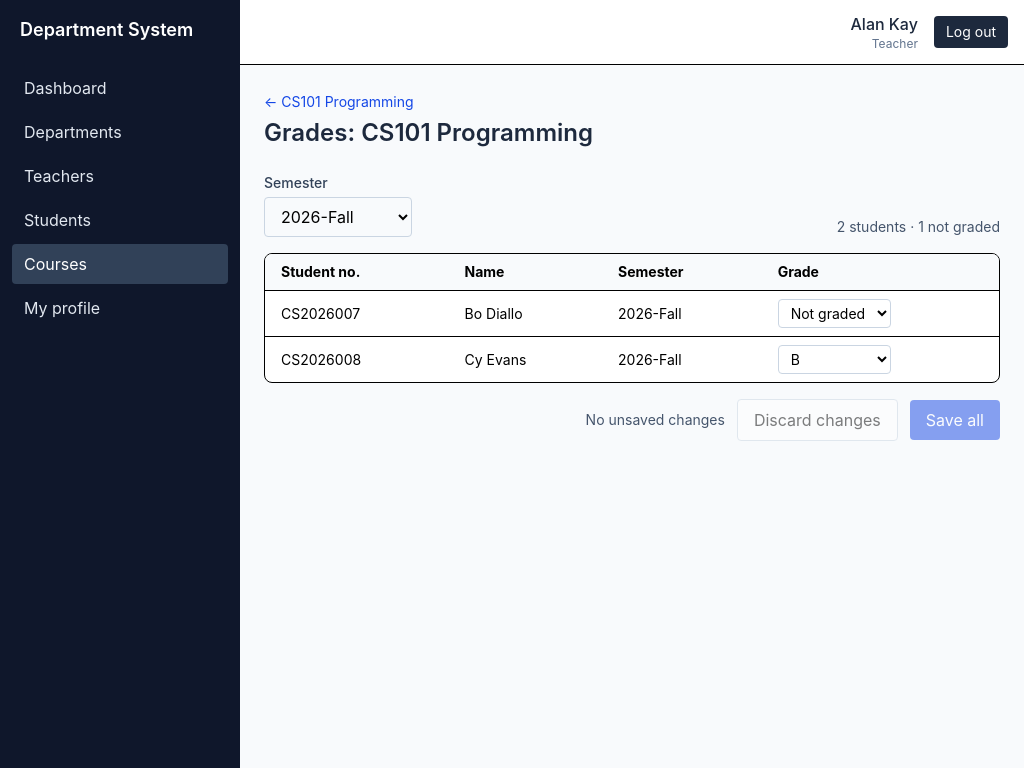
Scenario: Save all (FR-6.7) › a failed save shows the server's message and keeps the user's edits
Expected: the heading "Grades: CS101 Programming" is shown, [264, 118, 593, 147]
Select "A" in the dropdown named "Grade for Bo Diallo (2026-Fall)" at (834, 314), box [778, 299, 891, 328]
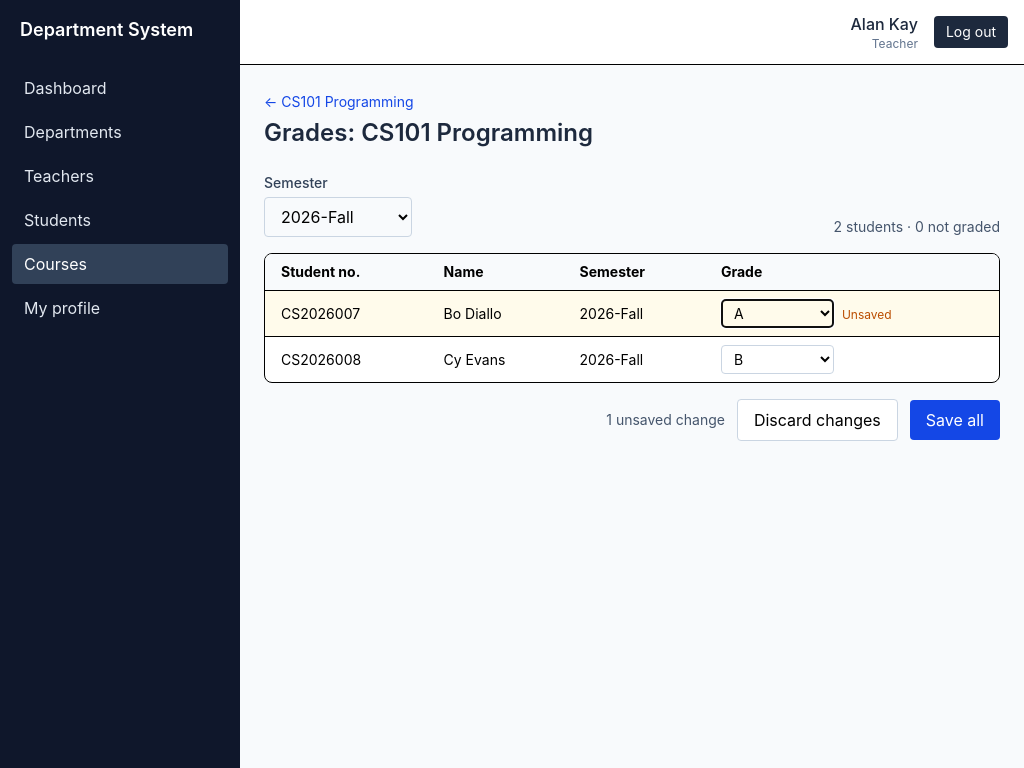
Select "B+" in the dropdown named "Grade for Cy Evans (2026-Fall)" at (777, 360), box [721, 345, 834, 374]
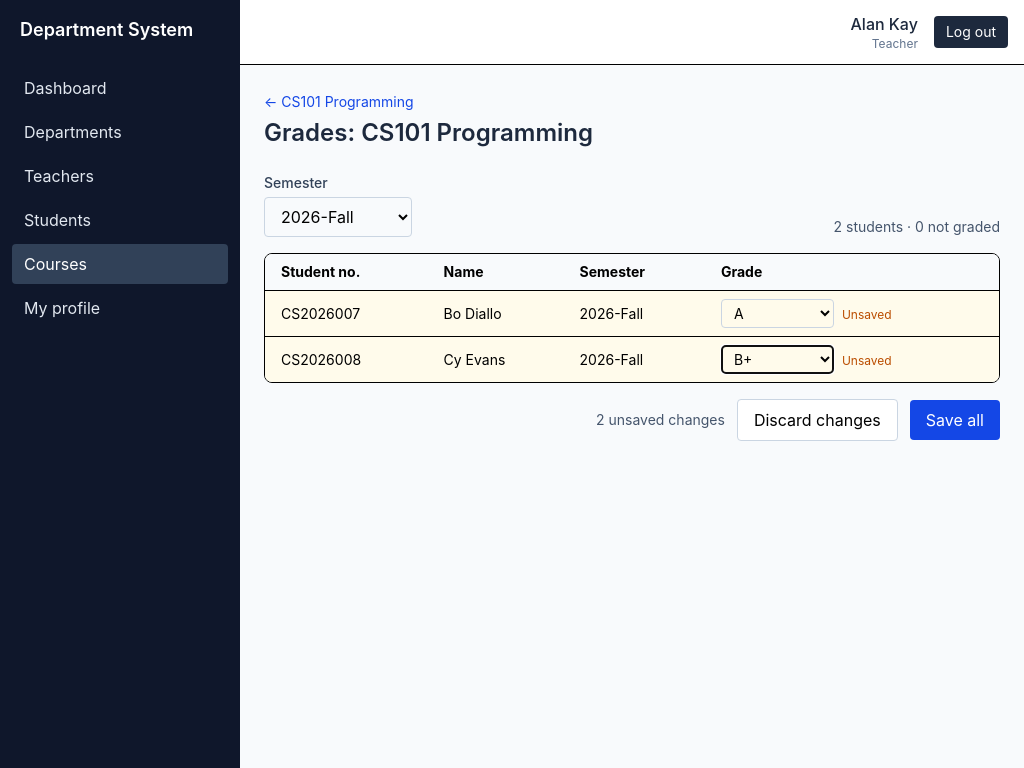
Click the button "Save all" at (955, 420), box [910, 400, 1000, 440]
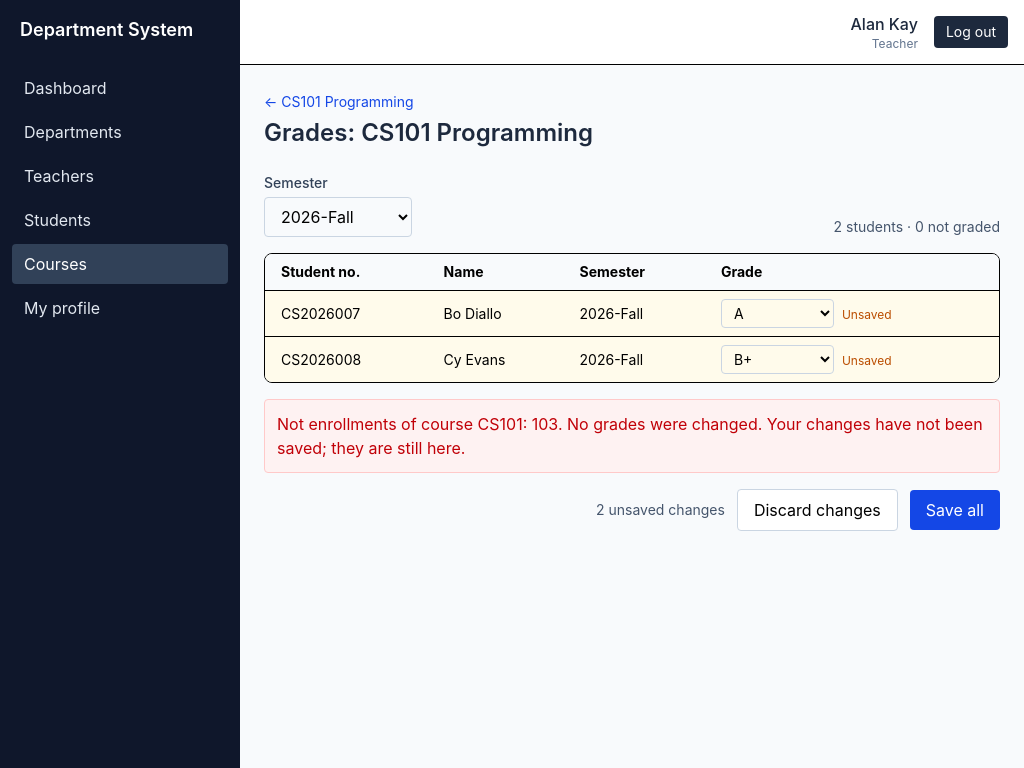
Result: the text "2 unsaved changes" is shown at [596, 500, 725, 520]
Result: the message shows "Not enrollments of course CS101: 103. No grades were changed." at [277, 414, 983, 458]
Result: the message shows "they are still here" at [277, 414, 983, 458]
# Trying again sends the same edits.
Click the button "Save all" at (955, 510), box [910, 490, 1000, 530]
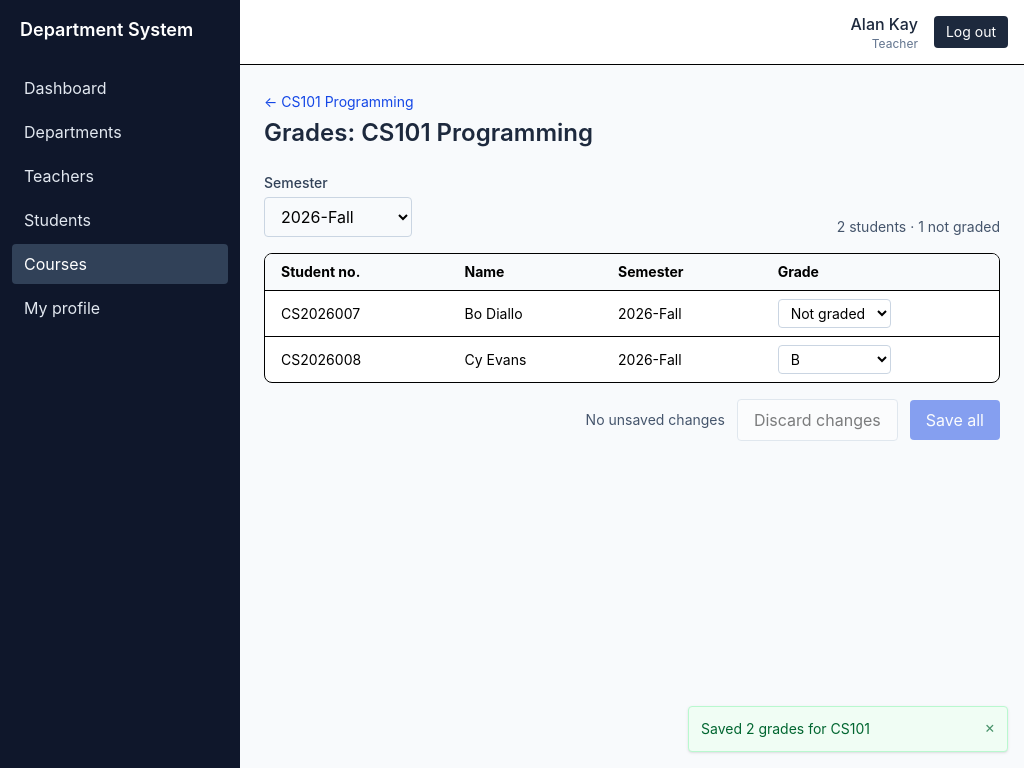
Result: the message shows "Saved 2 grades" at [701, 720, 870, 737]
